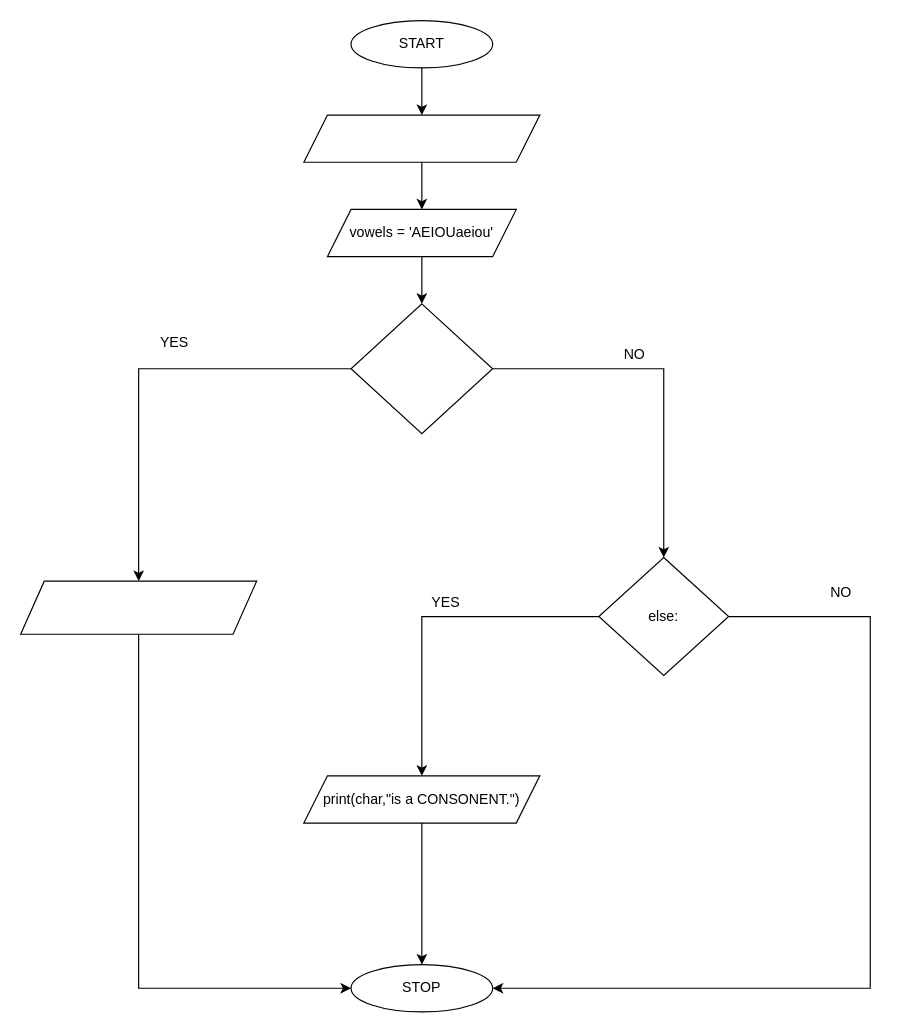
This 900x1033 diagram has some shape labels left out. The shapes that lost their labels are listed below. From the top down, each one's box as (x1, y1, x2, y2) in pixels, then its label:
(303, 114, 540, 162): input("Enter any character :")
(350, 303, 493, 434): f char in vowels:
(19, 580, 257, 634): print(char,"is a VOWEL.")
